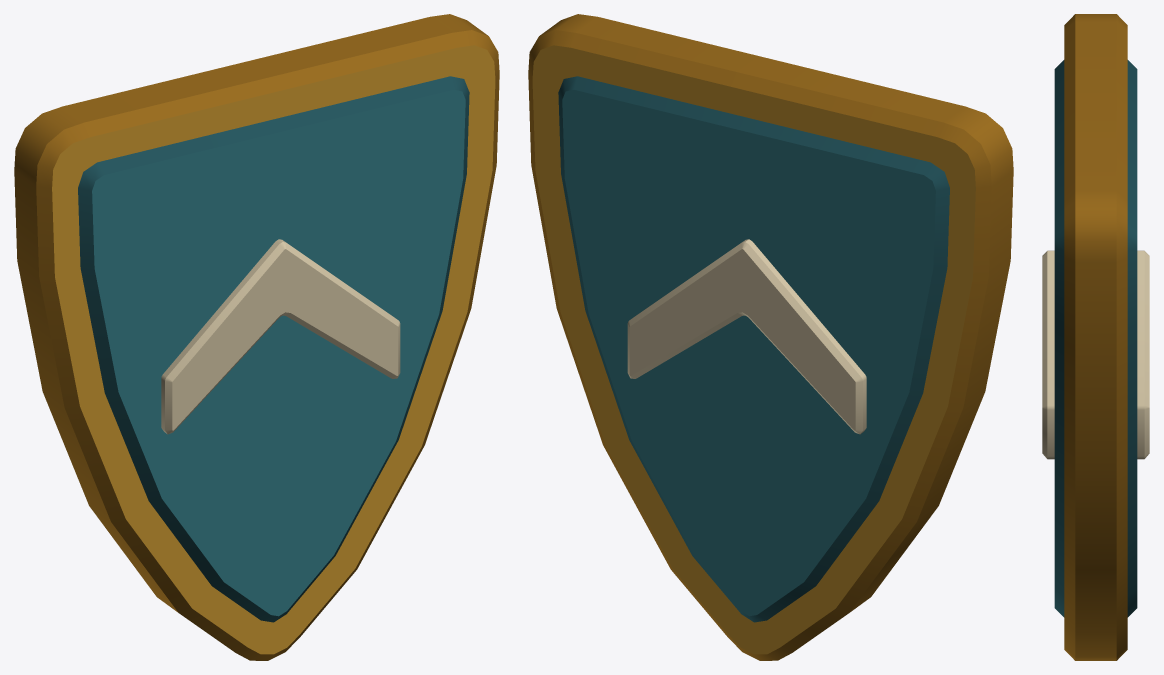
The model's file is Badge_29.glb.
3 views of the same model, side by side, from view 1: azimuth 30°, elevation 25°; view 2: azimuth 150°, elevation 25°; view 3: azimuth 270°, elevation 25° (orthographic). The views are drawn at different scales.
Parts seen in each view (by area): view 1: Badge_29; view 2: Badge_29; view 3: Badge_29.
Part boxes in pixels (x1=…): Badge_29: x1=14, y1=14, x2=499, y2=660; Badge_29: x1=528, y1=14, x2=1013, y2=660; Badge_29: x1=1042, y1=14, x2=1149, y2=660.
Bounding box in the file's own units: 2.08 × 2.5 × 0.44.
